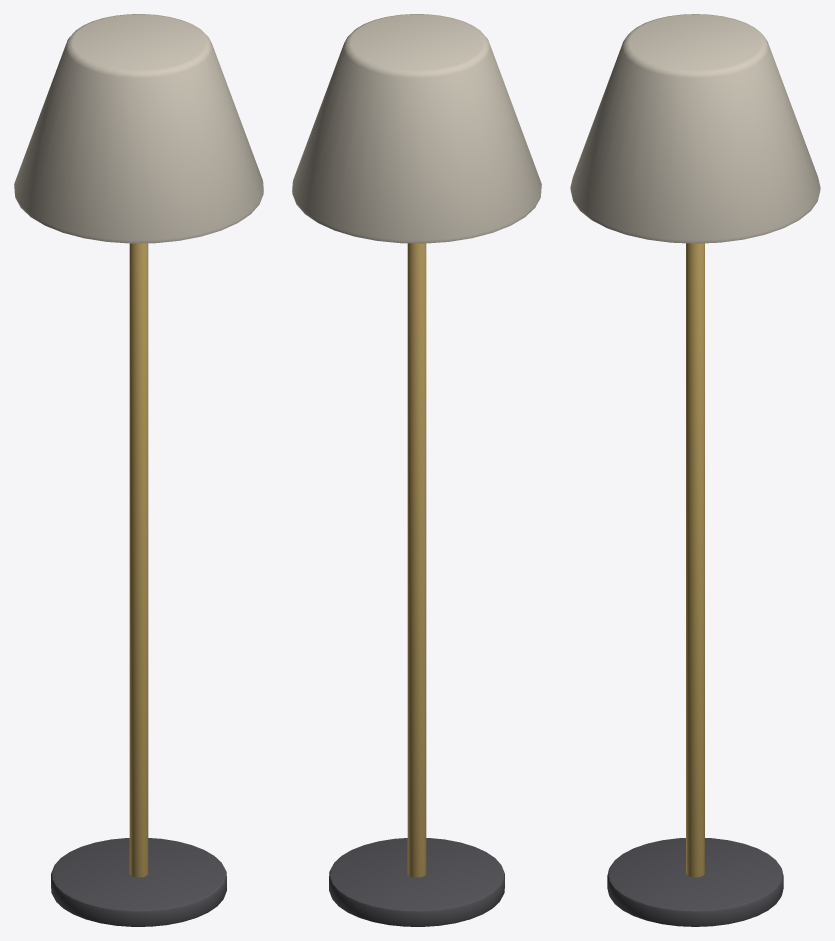
Rendered from floor_lamp.glb.
3 views of the same model, side by side, from view 1: azimuth 30°, elevation 25°; view 2: azimuth 150°, elevation 25°; view 3: azimuth 270°, elevation 25° (orthographic).
Visible parts, largest first — view 1: shade, pole, base; view 2: shade, pole, base; view 3: shade, base, pole.
Boxes of the visible parts, x1,y1,x2,y2 form: shade: [14, 14, 263, 243]; pole: [129, 243, 148, 877]; base: [51, 838, 226, 926]; shade: [292, 14, 541, 243]; pole: [407, 243, 426, 877]; base: [329, 838, 504, 926]; shade: [570, 14, 820, 243]; base: [607, 838, 783, 926]; pole: [686, 243, 704, 877].
Bounding box in the file's own units: 0.4537 × 1.7 × 0.4537.
